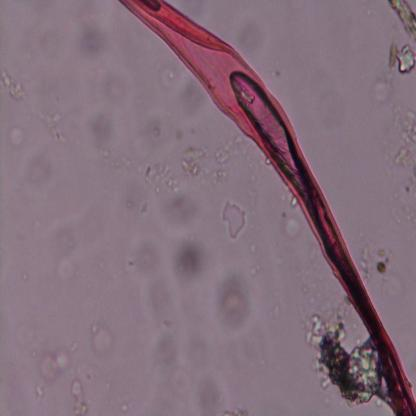Background material: (132, 246, 244, 414), (305, 312, 386, 412), (180, 133, 244, 186), (42, 217, 88, 287), (218, 264, 252, 335), (159, 66, 206, 115), (136, 159, 179, 212), (37, 336, 80, 384), (391, 104, 416, 179), (173, 236, 210, 284), (229, 14, 264, 63), (76, 17, 112, 61), (37, 107, 69, 146), (88, 105, 114, 153), (22, 151, 51, 194), (388, 0, 416, 42), (0, 66, 29, 104), (385, 43, 416, 76), (222, 200, 246, 240), (69, 378, 89, 416), (90, 324, 114, 354), (358, 245, 375, 283), (372, 80, 394, 108), (376, 247, 392, 284), (9, 121, 27, 148), (283, 215, 300, 240), (33, 386, 44, 400), (292, 197, 298, 208)
Cotton: (118, 0, 416, 414)
